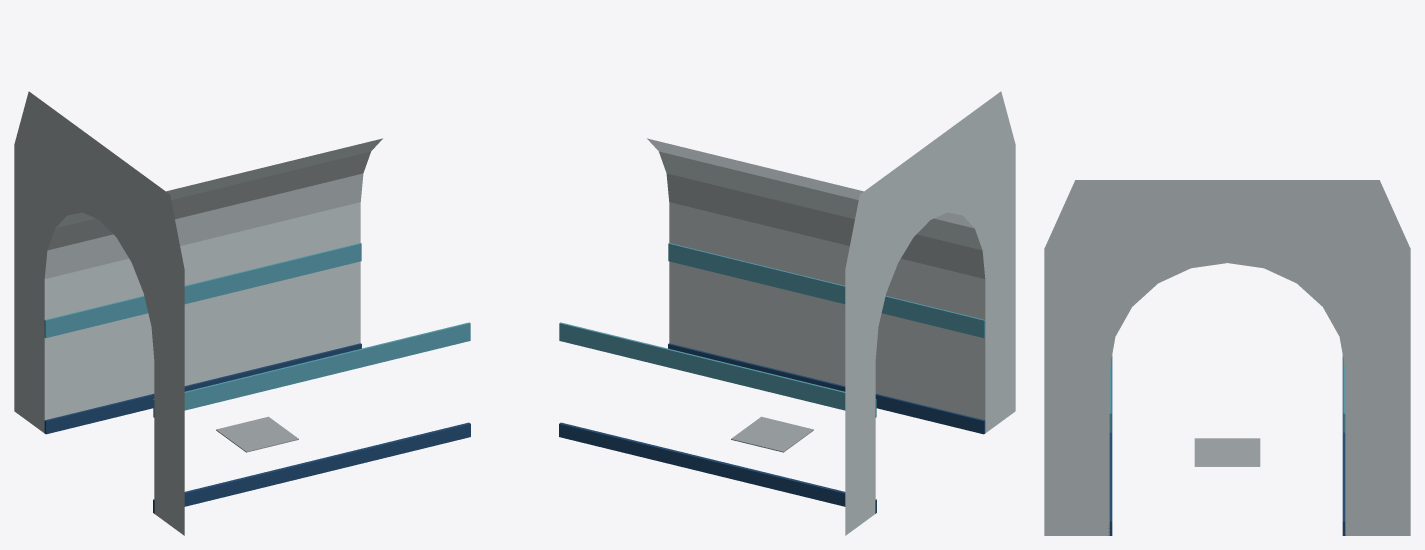
Rendered from tile_tunnel.glb.
3 views of the same model, side by side, from view 1: azimuth 30°, elevation 25°; view 2: azimuth 150°, elevation 25°; view 3: azimuth 270°, elevation 25° (orthographic). The views are drawn at different scales.
Parts seen in each view (by area): view 1: TunnelVault, TunnelTrim; view 2: TunnelVault, TunnelTrim; view 3: TunnelVault, TunnelTrim.
Boxes of the visible parts, x1,y1,x2,y2 form: TunnelVault: [14, 91, 382, 535]; TunnelTrim: [44, 243, 470, 513]; TunnelVault: [647, 91, 1015, 535]; TunnelTrim: [559, 243, 985, 513]; TunnelVault: [1044, 180, 1410, 535]; TunnelTrim: [1108, 356, 1345, 535].
Size of the model in its own units: 3 by 3 by 2.8.
